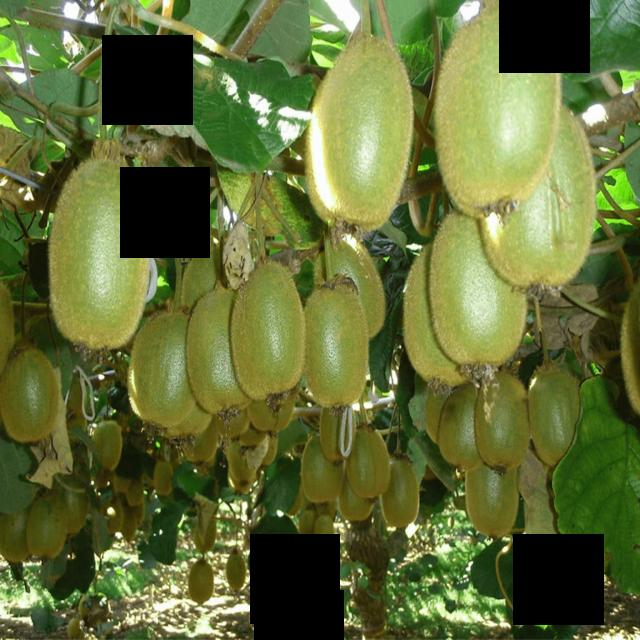kiwi: (474, 77, 608, 294), (437, 12, 559, 218), (39, 153, 157, 358), (312, 29, 418, 229), (425, 213, 537, 383), (231, 257, 310, 403), (400, 243, 473, 397), (297, 279, 375, 413), (127, 304, 198, 431), (189, 281, 253, 419), (314, 226, 390, 340), (1, 339, 66, 451), (530, 368, 588, 466), (475, 375, 529, 475), (461, 462, 523, 542), (435, 393, 487, 474), (179, 245, 237, 315), (346, 426, 394, 504), (615, 276, 640, 423), (26, 484, 70, 566), (295, 435, 345, 505), (379, 455, 424, 531), (244, 385, 300, 439), (223, 433, 271, 489), (417, 379, 457, 442), (1, 276, 22, 392), (88, 417, 126, 477), (318, 404, 356, 463), (1, 511, 34, 572), (211, 403, 258, 445), (337, 485, 381, 529), (185, 557, 217, 608), (184, 433, 223, 473), (59, 474, 88, 526), (193, 514, 221, 562), (226, 551, 252, 598), (315, 513, 339, 559), (102, 497, 126, 539), (298, 507, 322, 547), (153, 459, 177, 497), (121, 505, 141, 545), (125, 479, 147, 511), (113, 473, 131, 502)
